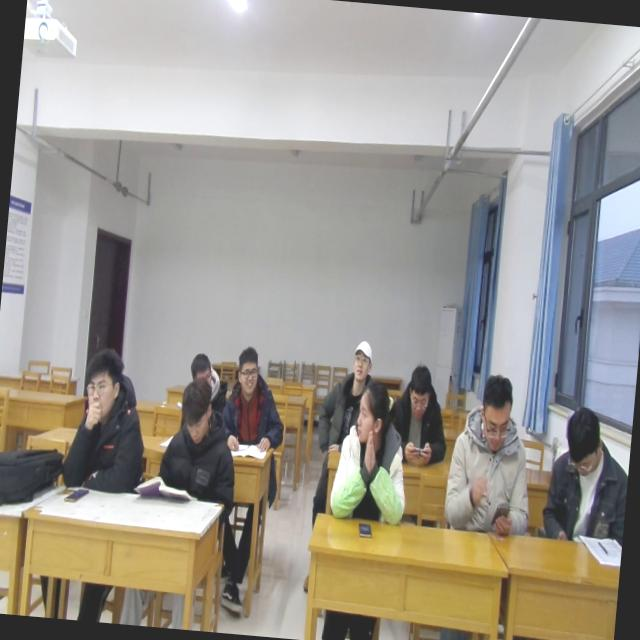down: (474, 366, 516, 456), (558, 403, 608, 478), (175, 374, 215, 444), (400, 358, 437, 427), (187, 340, 214, 382)
lookup: (78, 339, 126, 424), (230, 338, 262, 400), (346, 335, 374, 383)
sit: (441, 370, 542, 534), (326, 377, 418, 529), (539, 403, 633, 548), (60, 349, 150, 498), (154, 376, 244, 504), (218, 344, 293, 458), (316, 334, 377, 446), (393, 360, 454, 460), (179, 346, 227, 410)
